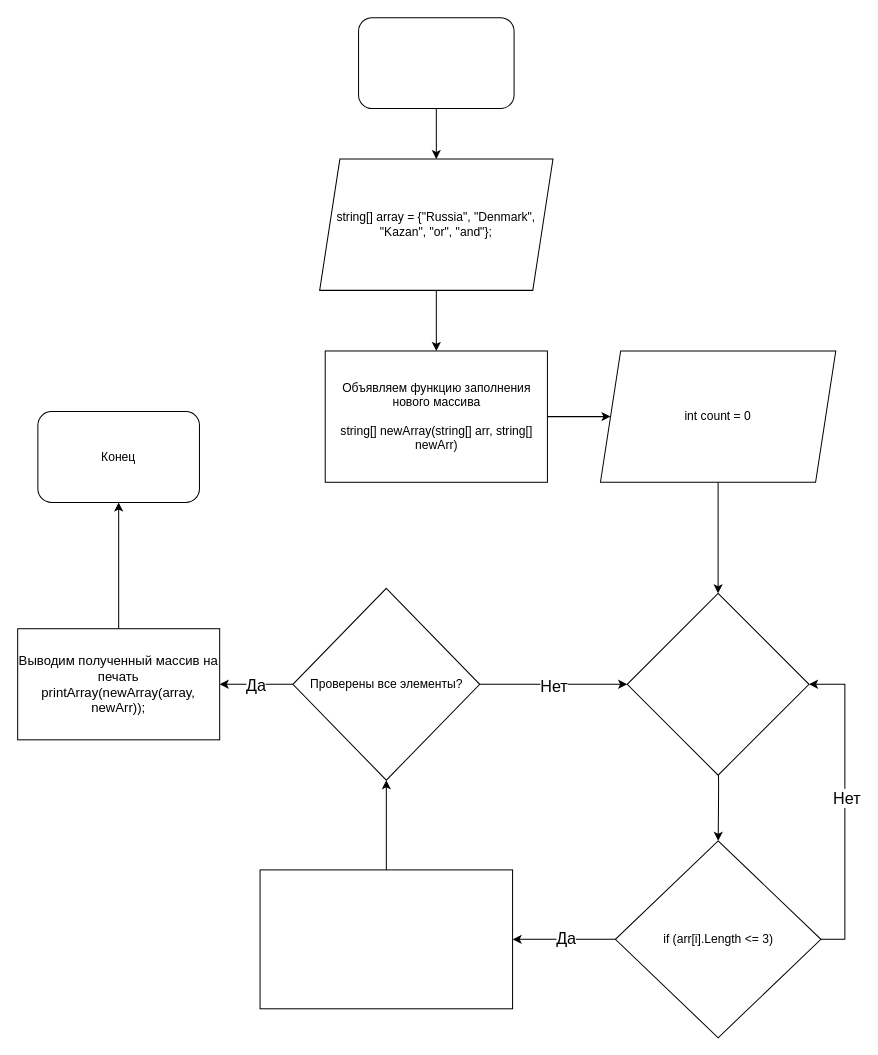
The diagram is 878 pixels wide and 1055 high, and some of its shapes have lost their labels. Each missing label, with the box of its shape:
for (int i = 0; i < arr.Length; i++): (626, 592, 809, 775)
newArr[count] = arr[i]; count += 1;: (259, 869, 513, 1009)
Начало: (358, 17, 514, 109)
